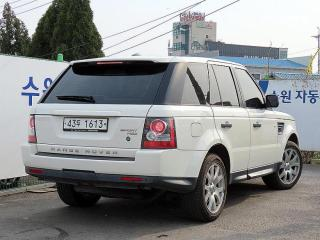1: (84, 119, 89, 128), (93, 120, 98, 128)
3: (99, 119, 104, 128), (72, 119, 76, 128)
4: (67, 119, 72, 127)
6: (88, 120, 94, 128)
두: (76, 119, 81, 127)
